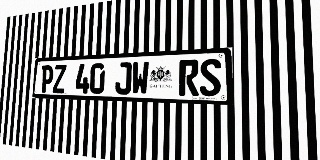0: (89, 63, 105, 94)
4: (75, 64, 90, 94)
J: (115, 62, 132, 95)
P: (40, 65, 54, 93)
R: (179, 59, 199, 96)
S: (200, 58, 221, 97)
W: (131, 61, 149, 95)
Z: (52, 64, 66, 93)
